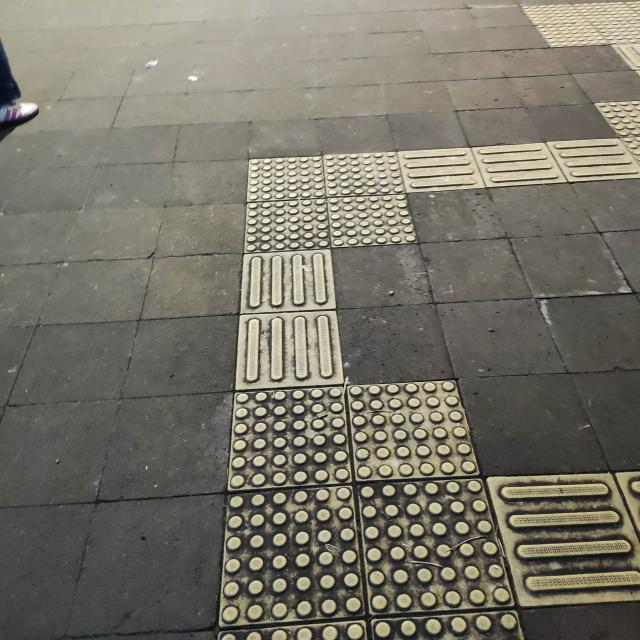kanan: (201, 113, 600, 323)
